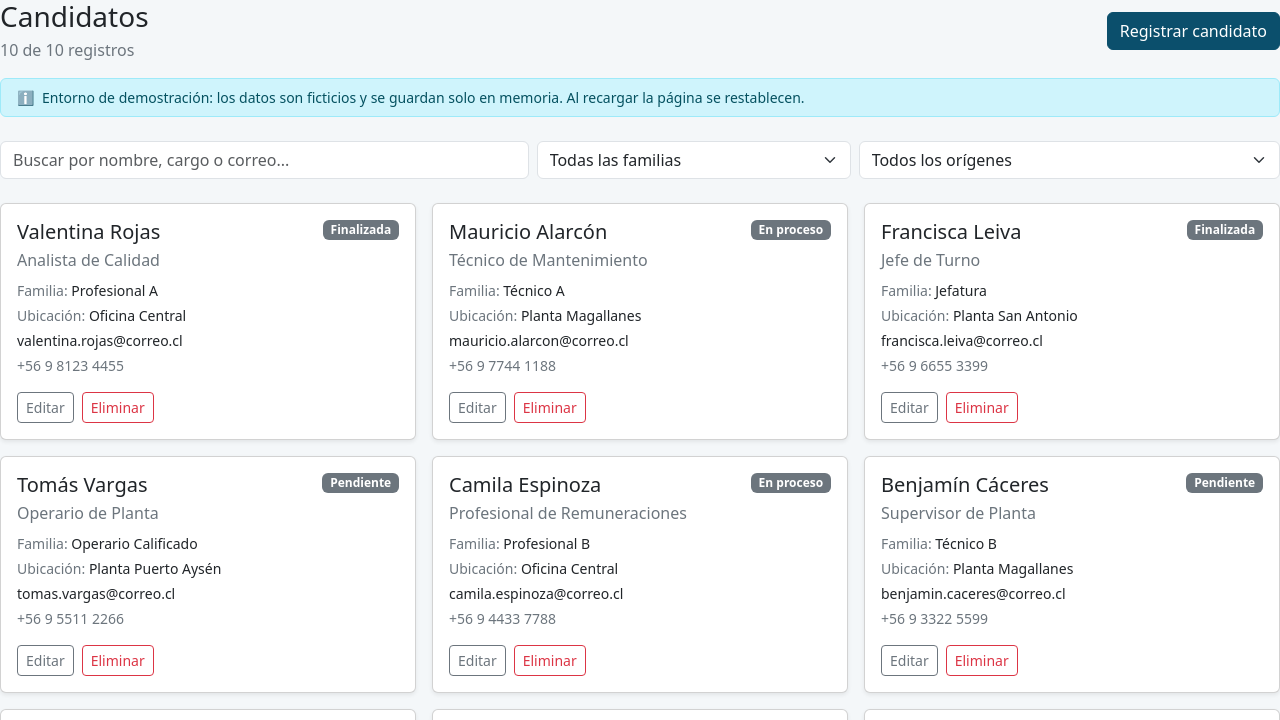
CandidatosPage › elimina un candidato tras confirmar en el diálogo
Click the button "Eliminar" below "+56 9 8123 4455".
click(118, 407)  # box [82,392,154,423]
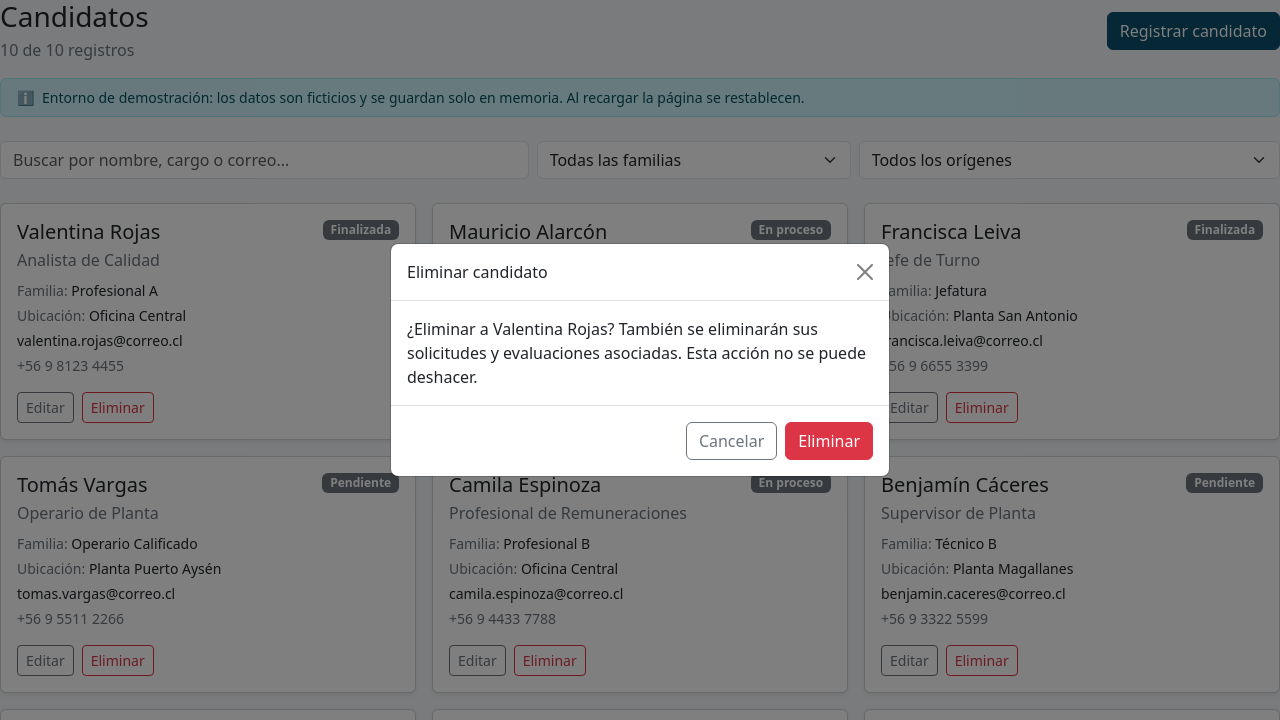
Now the text "Valentina Rojas" is shown, box [407,318,866,388]
Click the button "Eliminar".
click(829, 441)  # box [785,422,873,460]
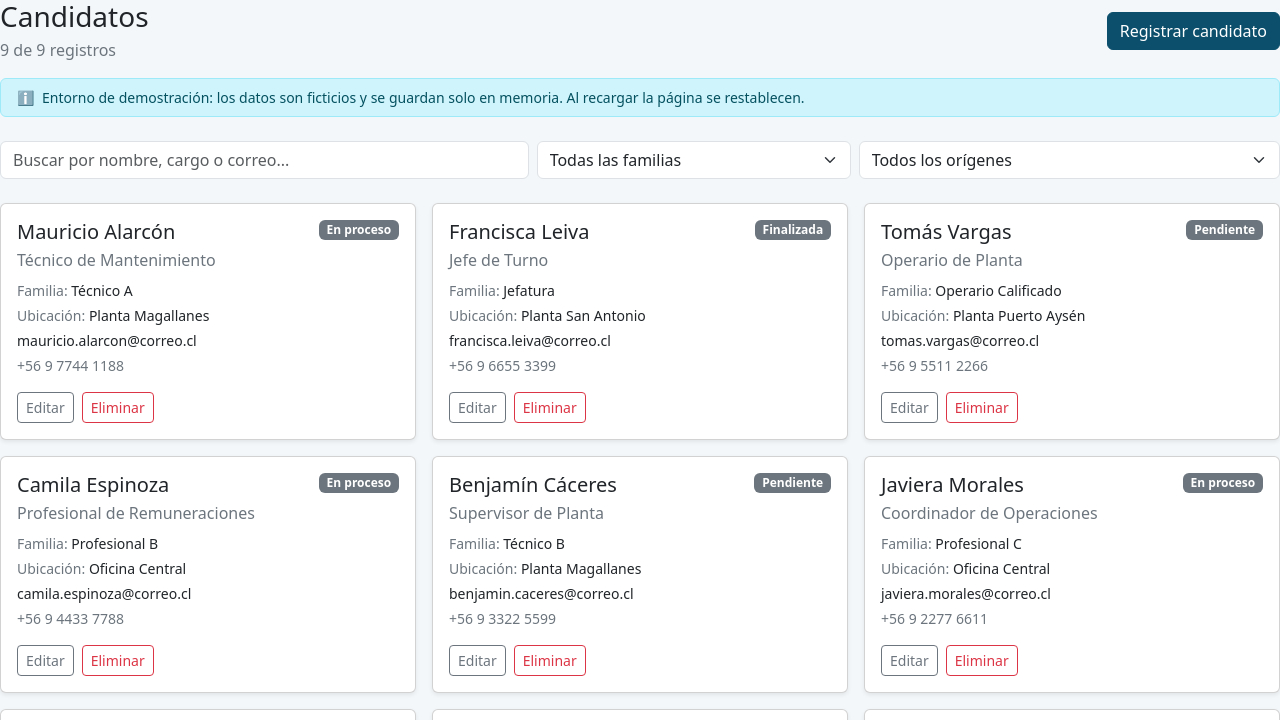
Now the heading "Valentina Rojas" is gone
Now the text "9 de 9 registros" is shown, box [0,39,116,61]
